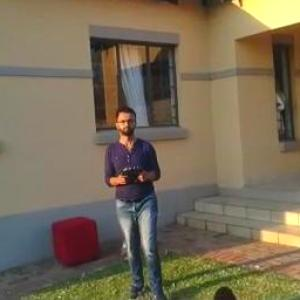follow: (102, 100, 171, 298)
